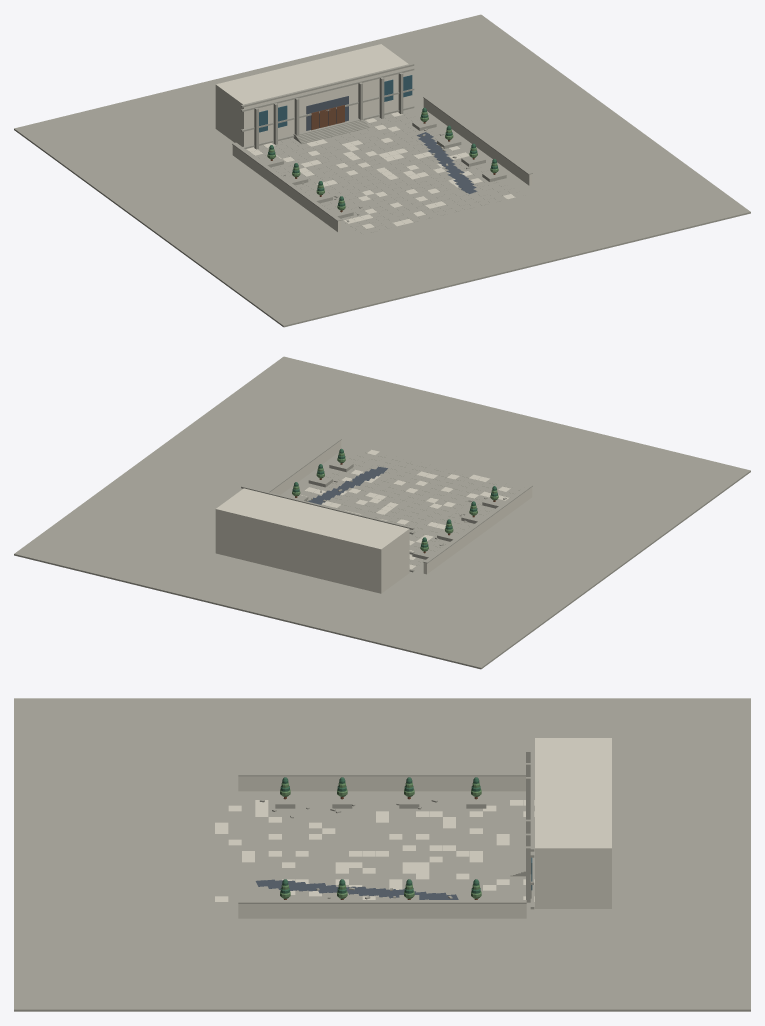
Rendered from hidden-inventory-rematch.glb.
3 views of the same model, one above another, from view 1: azimuth 30°, elevation 25°; view 2: azimuth 150°, elevation 25°; view 3: azimuth 270°, elevation 25° (orthographic). The views are drawn at different scales.
Visible parts, largest first — view 1: Warm limestone.001, association_main_building_1, Ivory plaster.001, Charcoal concrete, boundary_wall_2, boundary_wall_7, Smoked glass.001, Aged cedar.001; view 2: Warm limestone.001, association_main_building_1, Ivory plaster.001, boundary_wall_2, boundary_wall_7, Charcoal concrete; view 3: Warm limestone.001, association_main_building_1, Ivory plaster.001, boundary_wall_7, boundary_wall_2, Charcoal concrete, Sunlit foliage.001, Cypress green.001.
Boxes of the visible parts, x1=… form: Warm limestone.001: x1=14, y1=14, x2=750, y2=327; association_main_building_1: x1=215, y1=44, x2=409, y2=146; Ivory plaster.001: x1=246, y1=112, x2=515, y2=228; Charcoal concrete: x1=306, y1=96, x2=477, y2=193; boundary_wall_2: x1=232, y1=145, x2=341, y2=232; boundary_wall_7: x1=423, y1=98, x2=532, y2=185; Smoked glass.001: x1=259, y1=75, x2=412, y2=132; Aged cedar.001: x1=270, y1=105, x2=495, y2=212; Warm limestone.001: x1=14, y1=356, x2=750, y2=669; association_main_building_1: x1=215, y1=488, x2=409, y2=593; Ivory plaster.001: x1=300, y1=449, x2=510, y2=569; boundary_wall_2: x1=423, y1=487, x2=532, y2=574; boundary_wall_7: x1=270, y1=440, x2=341, y2=494; Charcoal concrete: x1=308, y1=466, x2=387, y2=504; Warm limestone.001: x1=14, y1=698, x2=750, y2=1011; association_main_building_1: x1=535, y1=738, x2=611, y2=908; Ivory plaster.001: x1=215, y1=800, x2=534, y2=901; boundary_wall_7: x1=238, y1=904, x2=526, y2=918; boundary_wall_2: x1=238, y1=776, x2=525, y2=791; Charcoal concrete: x1=255, y1=879, x2=458, y2=899; Sunlit foliage.001: x1=280, y1=782, x2=481, y2=898; Cypress green.001: x1=280, y1=777, x2=480, y2=893.
Size of the model in its own units: 220 by 21.08 by 220.
